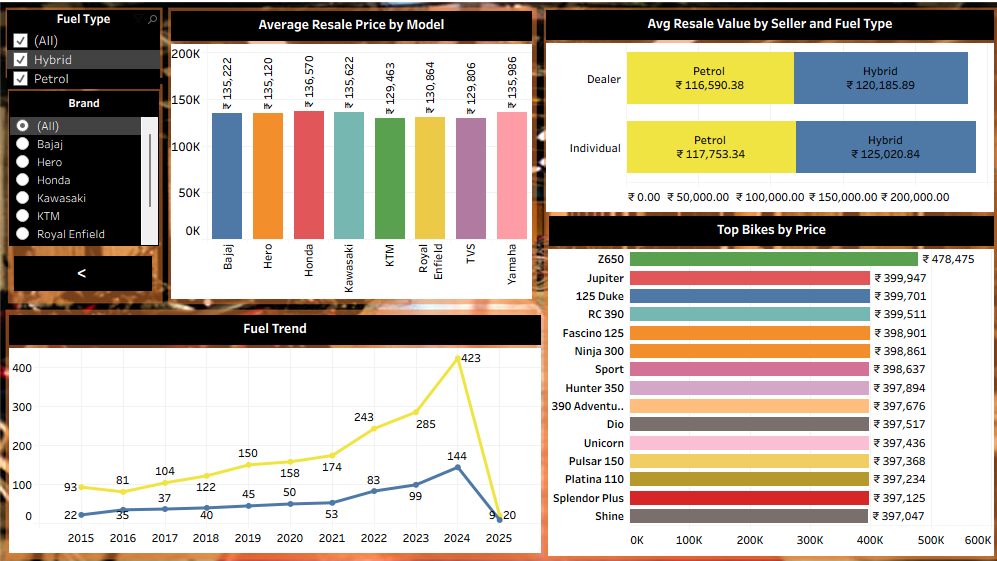

What the dashboard file says about the page in this screenshot:
{"tool":"tableau","page":{"name":"Dashboard 2","canvas":[1024,768],"ordinal":1},"visuals":[{"type":"image","param":"C:/Users/Ashu/OneDrive/Desktop/HR background.png","box":[8,8,1008,752]},{"type":"filter","title":"Average Resale Price by Model","param":"[federated.1idx07p17kpgme1gkm1hn1pq9t39].[none:Fuel Type:nk]","box":[19,111,153,79]},{"type":"worksheet","title":"Avg Resale Value by Seller and Fuel Type","mark":"Automatic","rows":["Seller Type"],"cols":["Calculation_1156580701106151425"],"box":[558,111,448,202]},{"type":"worksheet","title":"Average Resale Price by Model","mark":"Automatic","rows":["Calculation_719731533278642178"],"cols":["Brand"],"box":[183,112,361,288]},{"type":"filter","title":"Top  Bikes","param":"[federated.1idx07p17kpgme1gkm1hn1pq9t39].[none:Brand:nk]","box":[21,192,150,155]},{"type":"worksheet","title":"Sheet 11","mark":"Automatic","box":[403.4,286.6,0.9,255.5]},{"type":"worksheet","title":"Top  Bikes","mark":"Automatic","rows":["Model"],"cols":["Price (INR)"],"box":[560,317,446,340]},{"type":"dashboard-object","box":[26,357,138,35]},{"type":"worksheet","title":"Fuel Trend","mark":"Automatic","rows":["ID"],"cols":["Registration Year"],"box":[21,416,532,238]}]}

Visuals, with their boxes on the page's 1024x768 design canvas (x1, y1, x2, y2). These are canvas units, not pixel positions in the 997x561 screenshot, which may show the page scaled, cropped or inside an application window:
image: <box>8,8,1016,760</box>
"Average Resale Price by Model" filter: <box>19,111,172,190</box>
"Avg Resale Value by Seller and Fuel Type" worksheet: <box>558,111,1006,313</box>
"Average Resale Price by Model" worksheet: <box>183,112,544,400</box>
"Top  Bikes" filter: <box>21,192,171,347</box>
"Sheet 11" worksheet: <box>403,287,404,542</box>
"Top  Bikes" worksheet: <box>560,317,1006,657</box>
dashboard-object: <box>26,357,164,392</box>
"Fuel Trend" worksheet: <box>21,416,553,654</box>
